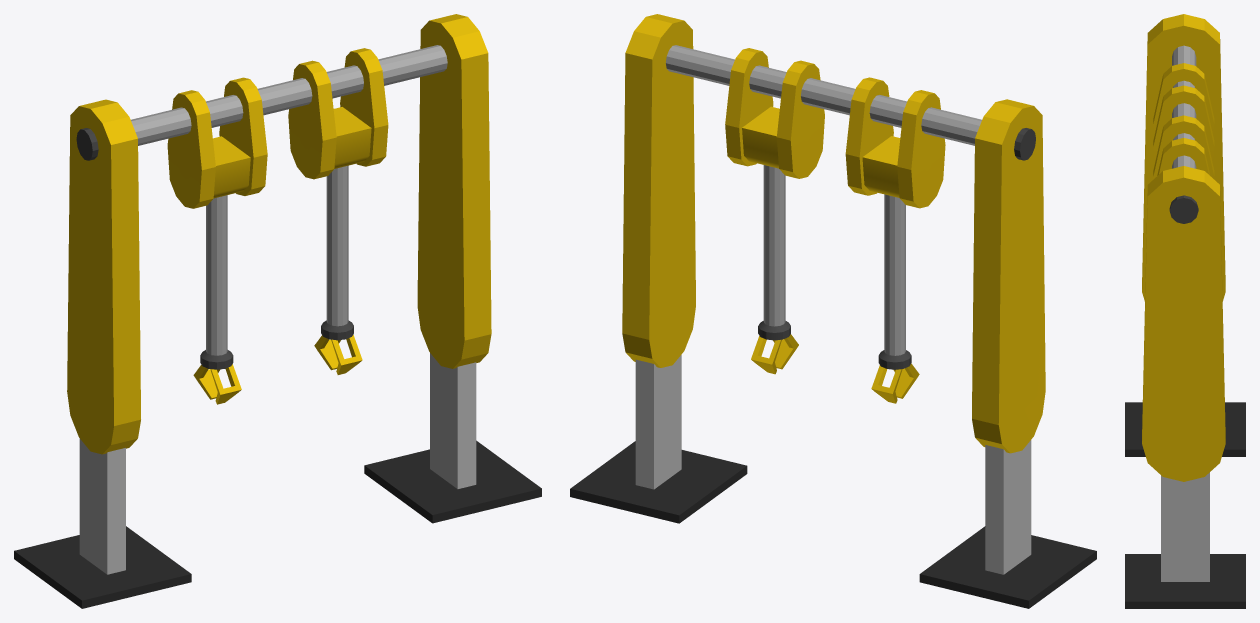
Rendered from Machine_pince.fbx.
3 views of the same model, side by side, from view 1: azimuth 30°, elevation 25°; view 2: azimuth 150°, elevation 25°; view 3: azimuth 270°, elevation 25° (orthographic). The views are drawn at different scales.
Parts seen in each view (by area): view 1: machine_pince; view 2: machine_pince; view 3: machine_pince.
Part boxes in pixels (x1,y1,x2,y2): machine_pince: (14, 14, 541, 608); machine_pince: (570, 14, 1096, 608); machine_pince: (1125, 14, 1245, 608).
Size of the model in its own units: 3.82 by 3.69 by 0.9792.
